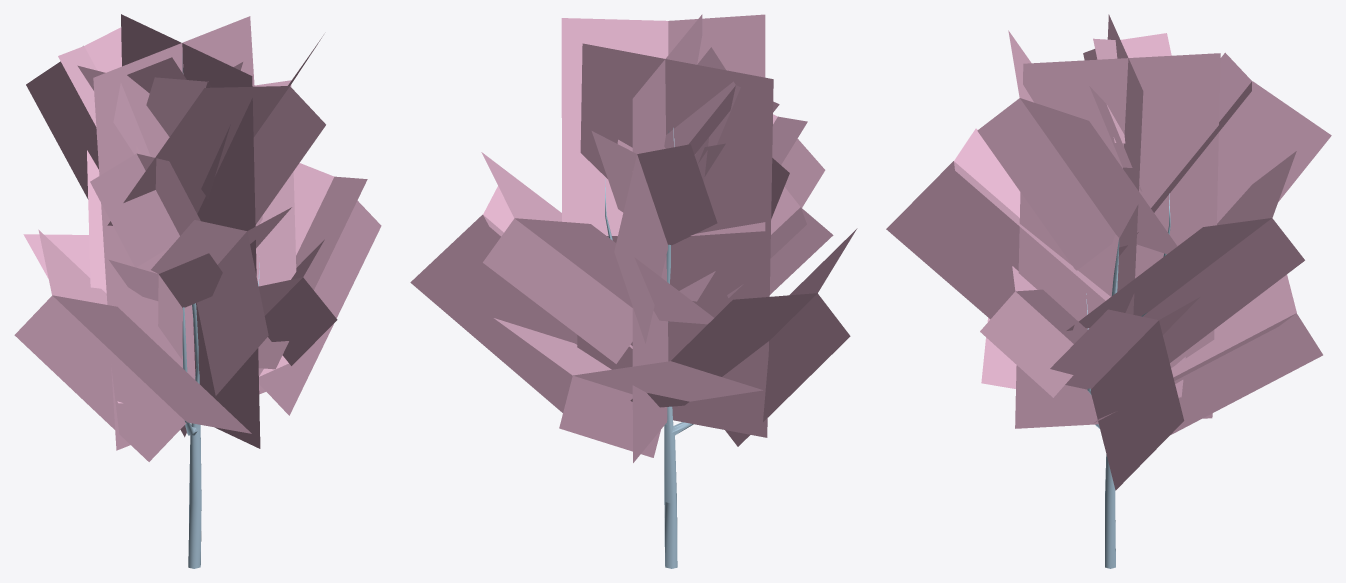
Rendered from treemaple01a.fbx.
3 views of the same model, side by side, from view 1: azimuth 30°, elevation 25°; view 2: azimuth 150°, elevation 25°; view 3: azimuth 270°, elevation 25° (orthographic). The views are drawn at different scales.
Visible parts, largest first — view 1: treemaple01a; view 2: treemaple01a; view 3: treemaple01a.
Boxes of the visible parts, left/top/right/bottom form: treemaple01a: left=14, top=14, right=381, bottom=568; treemaple01a: left=410, top=14, right=857, bottom=568; treemaple01a: left=886, top=14, right=1331, bottom=568.
Size of the model in its own units: 27263 by 33882 by 26543.
